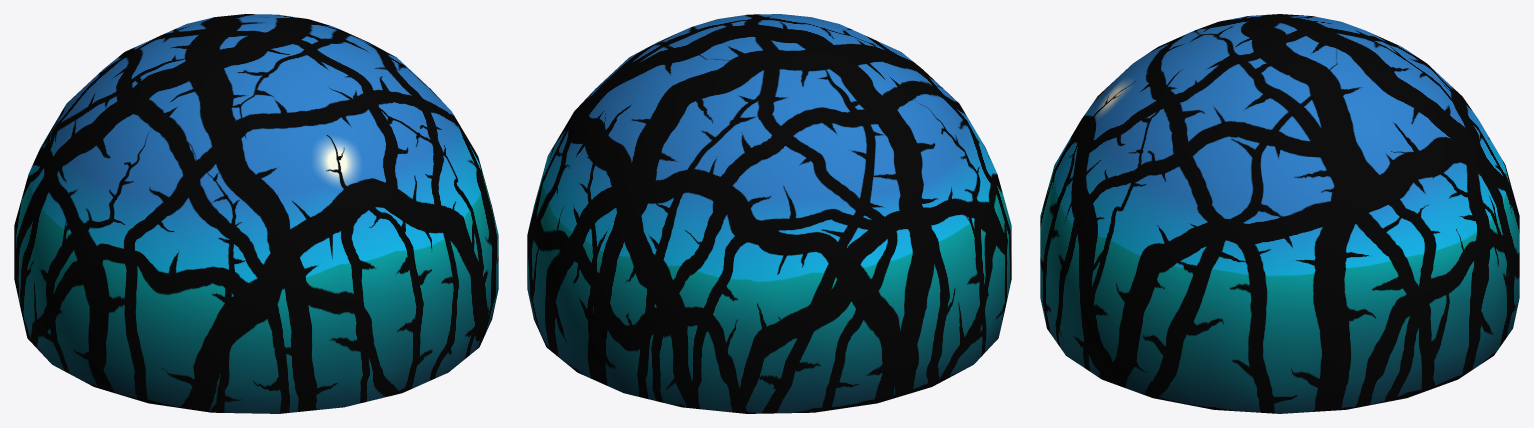
The model's file is dome.fbx.
The picture shows the model from 3 angles, left to right: view 1: azimuth 30°, elevation 25°; view 2: azimuth 150°, elevation 25°; view 3: azimuth 270°, elevation 25°; orthographic projection.
Parts seen in each view (by area): view 1: nurbsToPoly1; view 2: nurbsToPoly1; view 3: nurbsToPoly1.
Boxes of the visible parts, box(x1,y1,x2,y2) form: nurbsToPoly1: box(14, 14, 498, 413); nurbsToPoly1: box(527, 14, 1011, 413); nurbsToPoly1: box(1040, 14, 1519, 413).
Bounding box in the file's own units: 0.9928 × 0.6294 × 0.9823.
